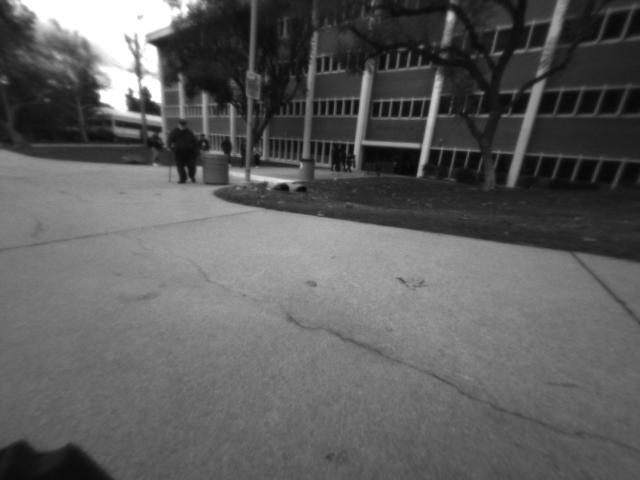trashcan: (198, 145, 237, 186), (294, 154, 316, 186)
